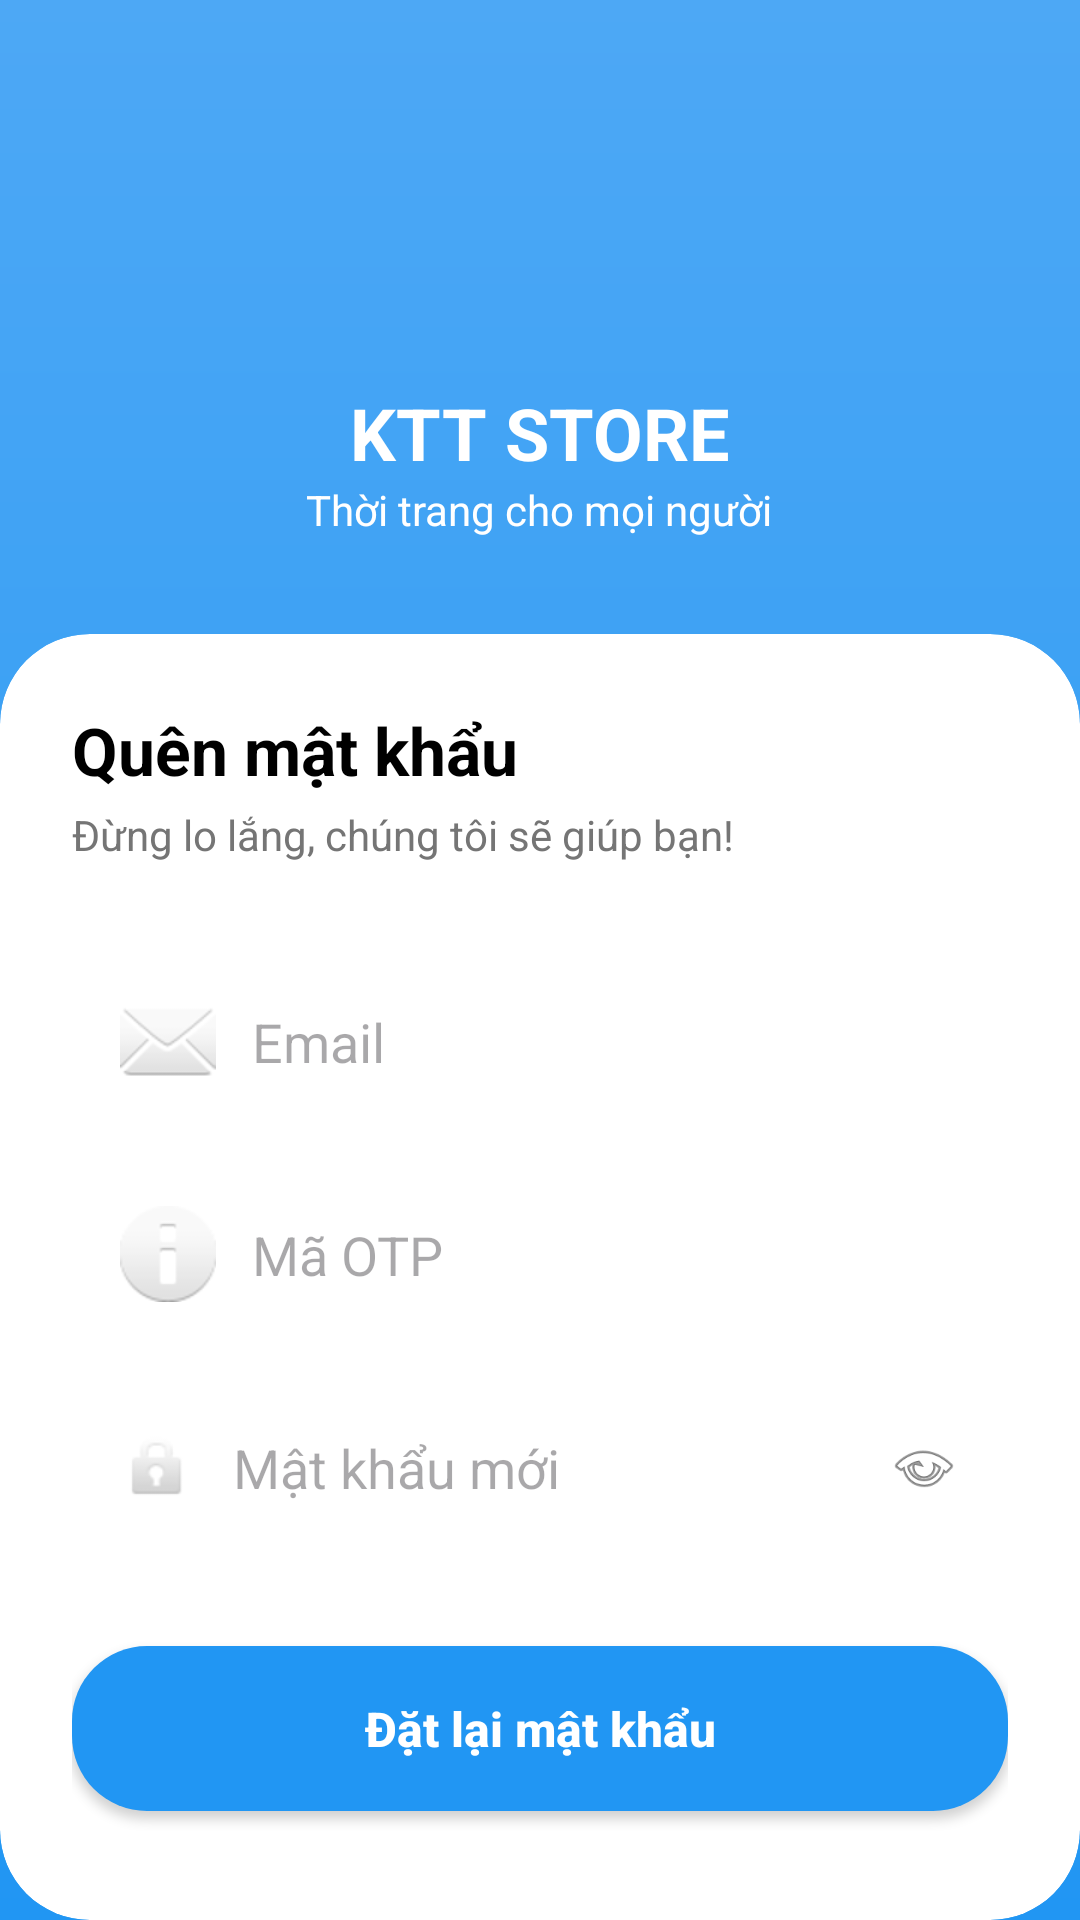

Point at icon controls on the screen. Image size 1080×1920, points as [x,y].
view: [924,1468]
